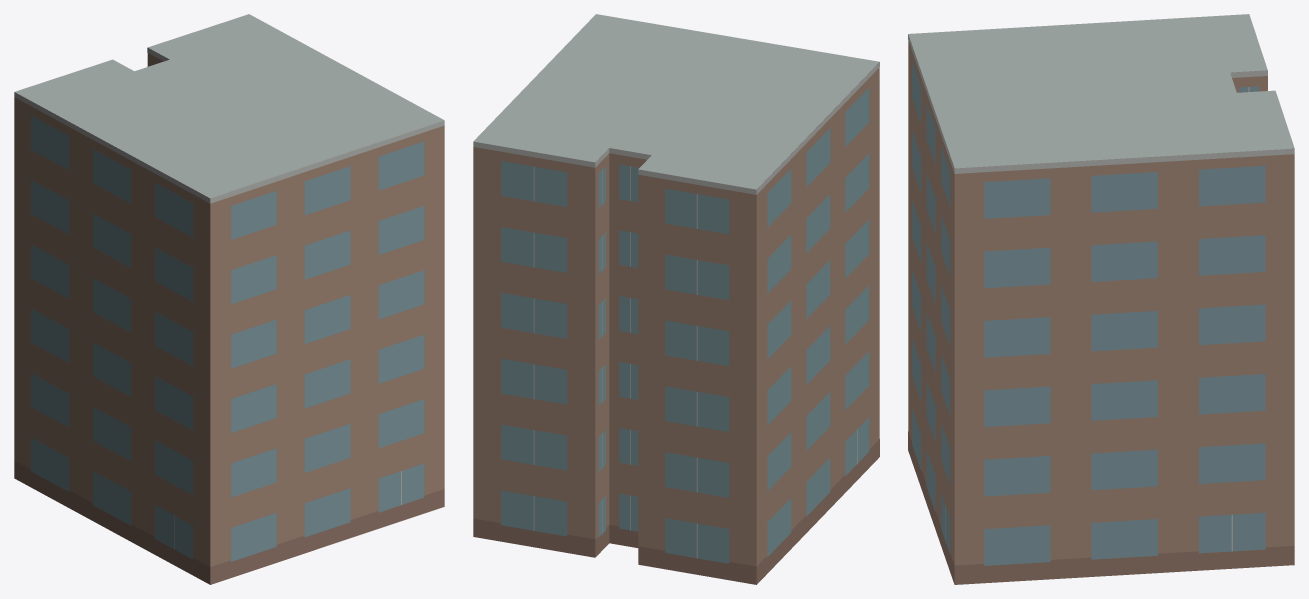
File: survey-upis-32904235.glb
3 views of the same model, side by side, from view 1: azimuth 30°, elevation 25°; view 2: azimuth 150°, elevation 25°; view 3: azimuth 270°, elevation 25° (orthographic). The views are drawn at different scales.
Parts seen in each view (by area): view 1: survey-upis-32904235.tmp; view 2: survey-upis-32904235.tmp; view 3: survey-upis-32904235.tmp.
Part boxes in pixels (x1=…): survey-upis-32904235.tmp: x1=14, y1=14, x2=444, y2=584; survey-upis-32904235.tmp: x1=473, y1=14, x2=879, y2=584; survey-upis-32904235.tmp: x1=908, y1=14, x2=1294, y2=584.
Size of the model in its own units: 14.57 by 18.3 by 15.41.
